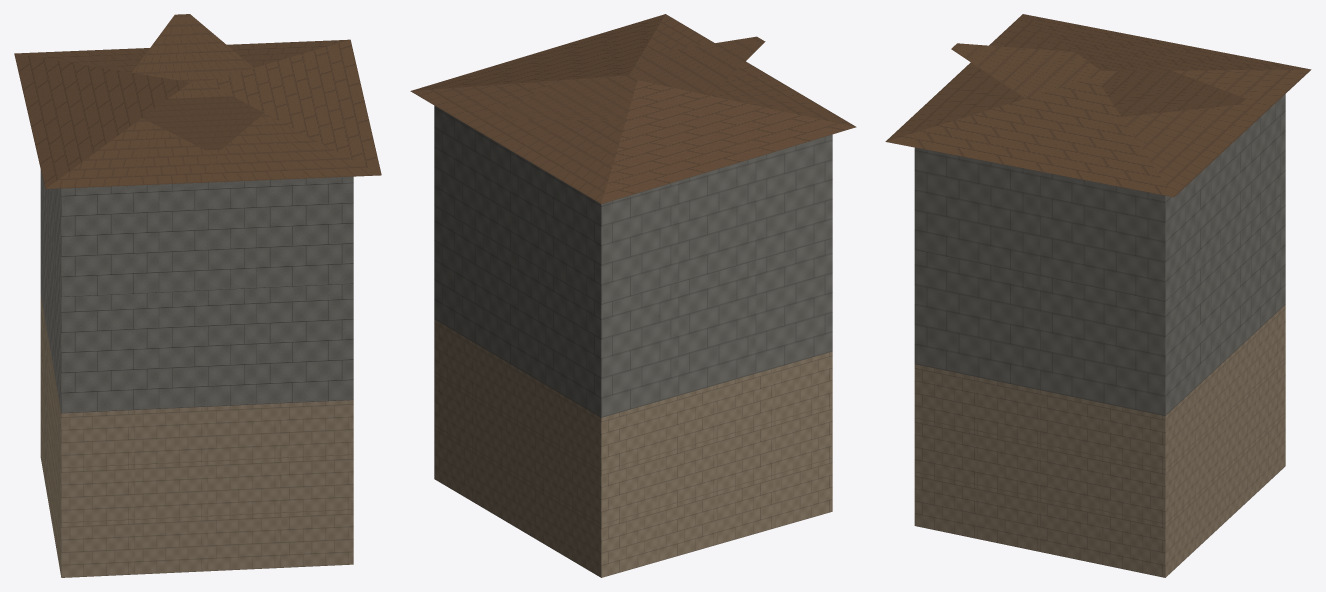
Rendered from bld_c10_7_520.gltf.
3 renders of one model, left to right at view 1: azimuth 30°, elevation 25°; view 2: azimuth 150°, elevation 25°; view 3: azimuth 270°, elevation 25°, orthographic. The views are drawn at different scales.
Parts seen in each view (by area): view 1: bld_c10_7_520; view 2: bld_c10_7_520; view 3: bld_c10_7_520.
Boxes of the visible parts, x1,y1,x2,y2 form: bld_c10_7_520: (14, 14, 381, 577); bld_c10_7_520: (410, 14, 856, 577); bld_c10_7_520: (885, 14, 1311, 577).
Bounding box in the file's own units: 12.39 × 13.3 × 12.18.
Materials: 3 (3 with a texture image).
